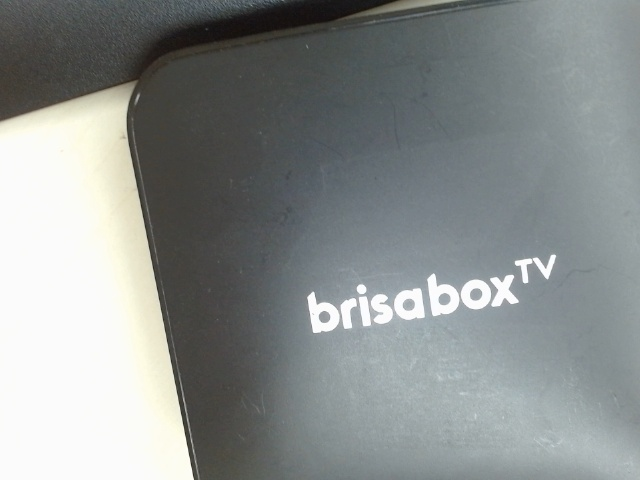AH_brisabox: (295, 248, 569, 338)
